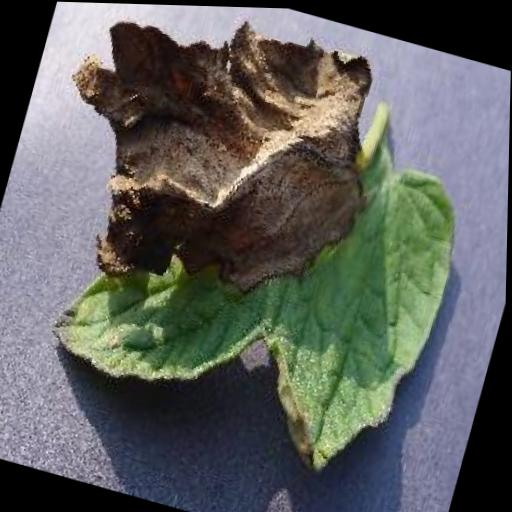Late Blight: (0, 0, 504, 505)
